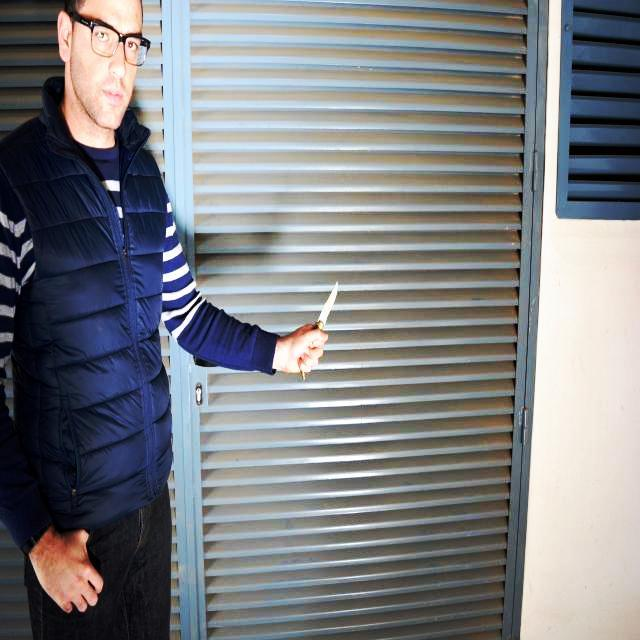Knife: (315, 273, 344, 352)
